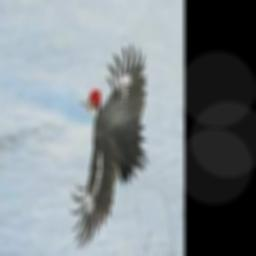Woodpecker: (69, 42, 148, 248)
